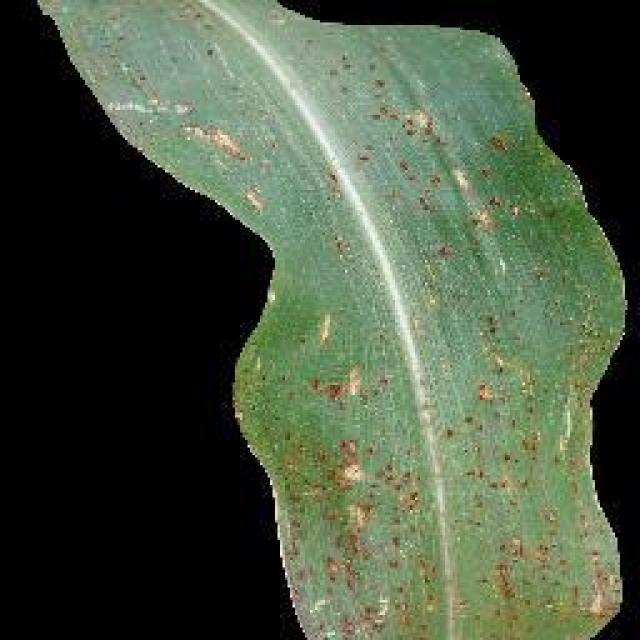Corn Common Rust: (102, 150, 640, 638)
